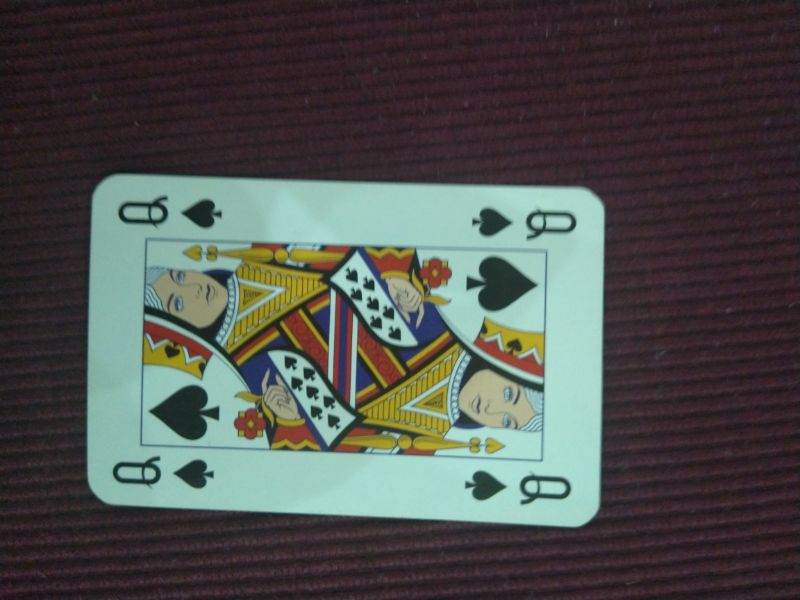Qs: (456, 463, 576, 509), (465, 201, 586, 244), (110, 450, 222, 495), (115, 191, 227, 233)
